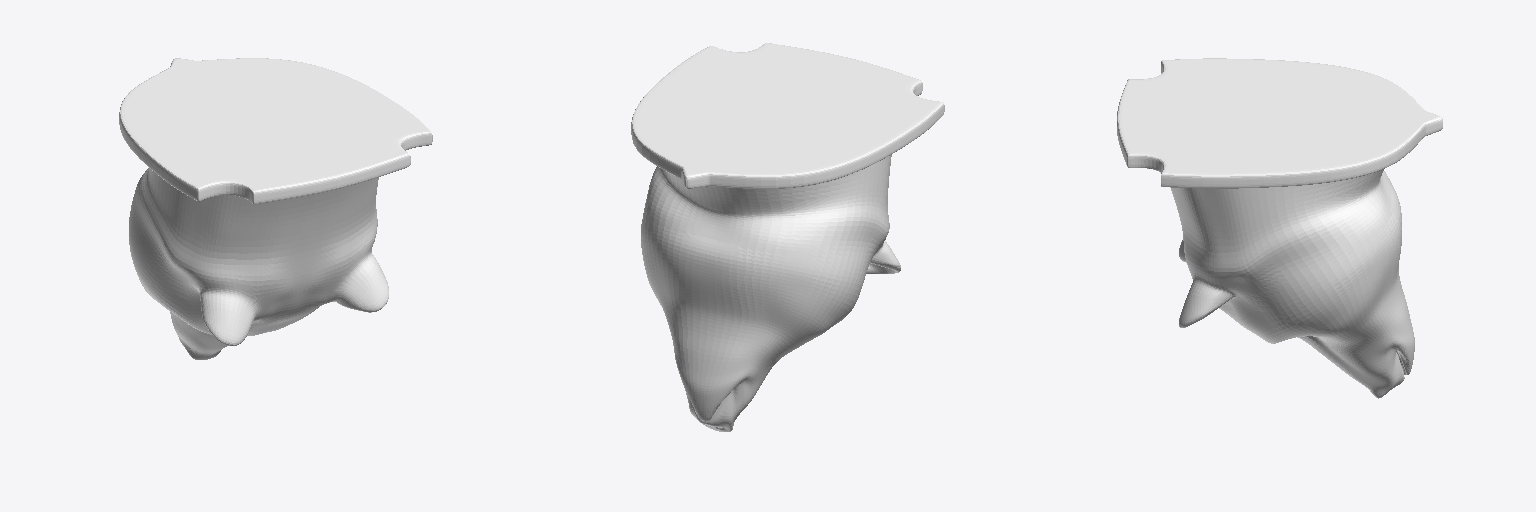
File: 12142_Mounted_Bear_Head_v2_l3.obj
3 renders of one model, left to right at view 1: azimuth 30°, elevation 25°; view 2: azimuth 150°, elevation 25°; view 3: azimuth 270°, elevation 25°, orthographic.
Parts seen in each view (by area): view 1: Mounted_Bear_Head; view 2: Mounted_Bear_Head; view 3: Mounted_Bear_Head.
Part boxes in pixels (bbox=[...]): Mounted_Bear_Head: bbox=[119, 58, 432, 359]; Mounted_Bear_Head: bbox=[631, 43, 944, 431]; Mounted_Bear_Head: bbox=[1117, 58, 1442, 398].
Size of the model in its own units: 32.97 by 36.22 by 38.5.